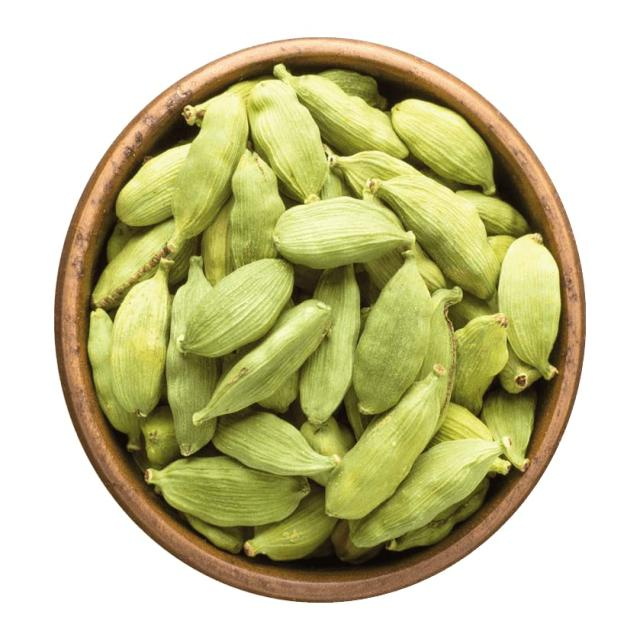Cardamom: (72, 62, 570, 567)
